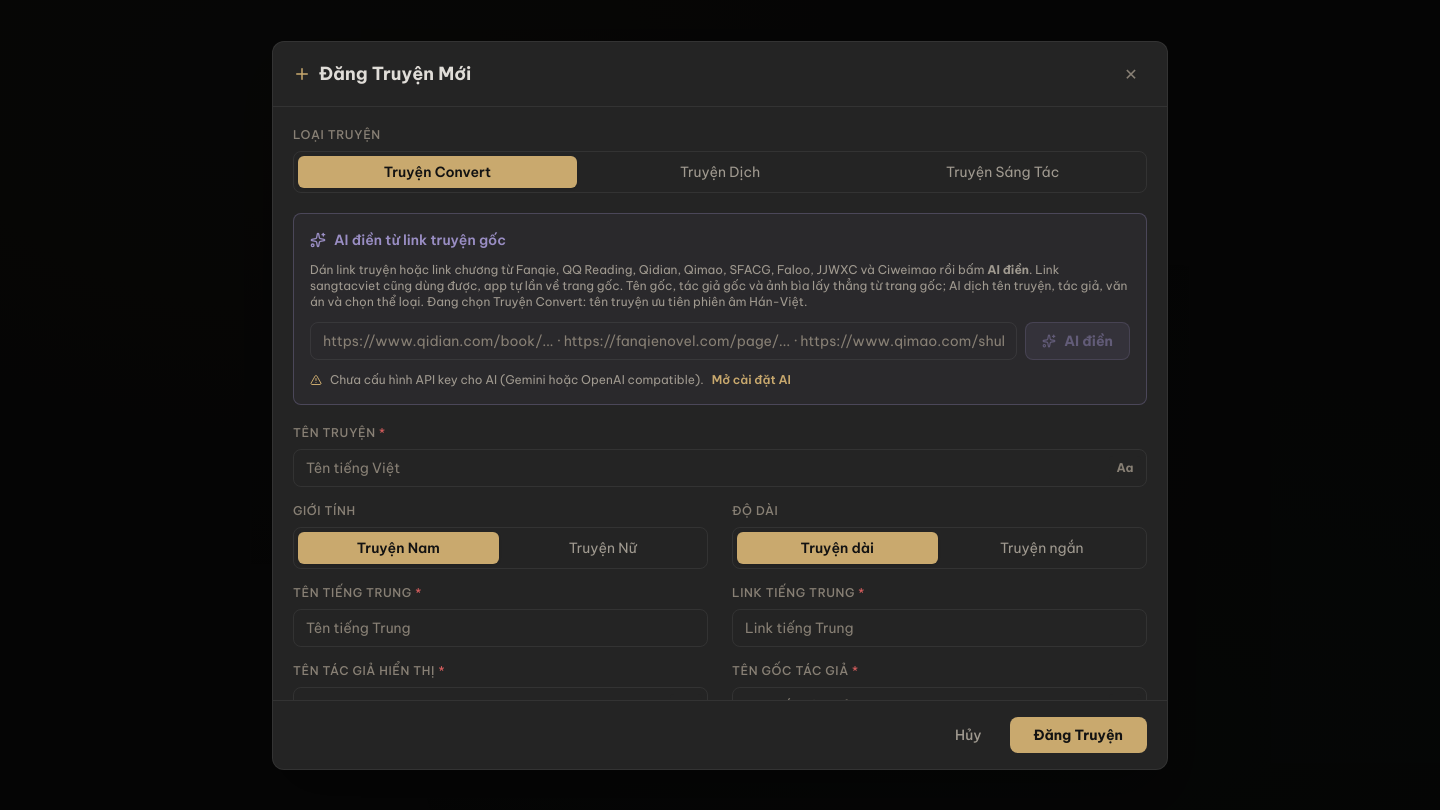
CreateBookModal › downloads the cover from the source without running the AI
Expected: the button "Tải ảnh bìa từ nguồn" is not shown
Replace the text in the field named "Link truyện gốc" with "https://www.qidian.com/book/1010868264/" at (664, 340), box [310, 322, 1017, 360]
(page scrolled)
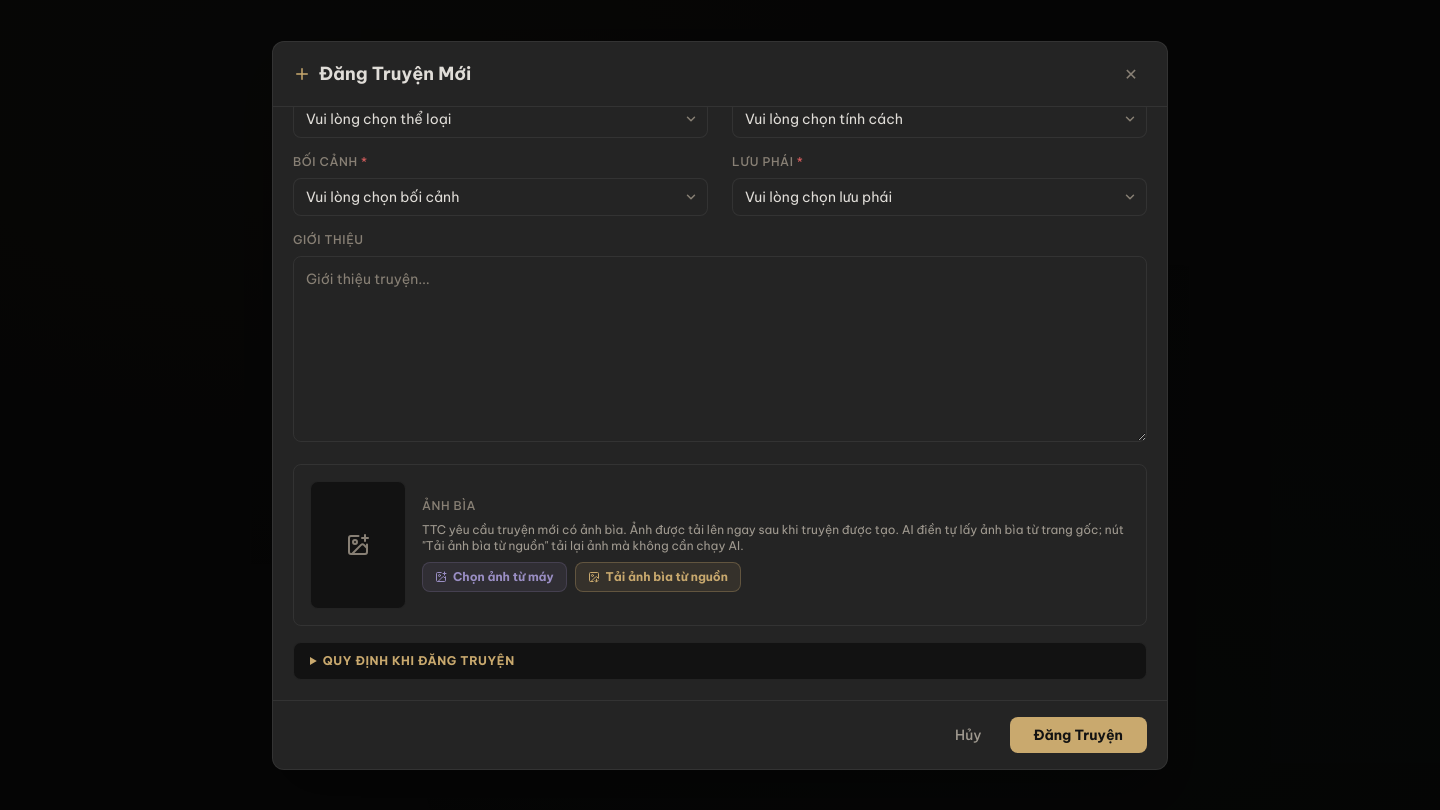
Click the button "Tải ảnh bìa từ nguồn" at (658, 576), box [575, 562, 741, 592]
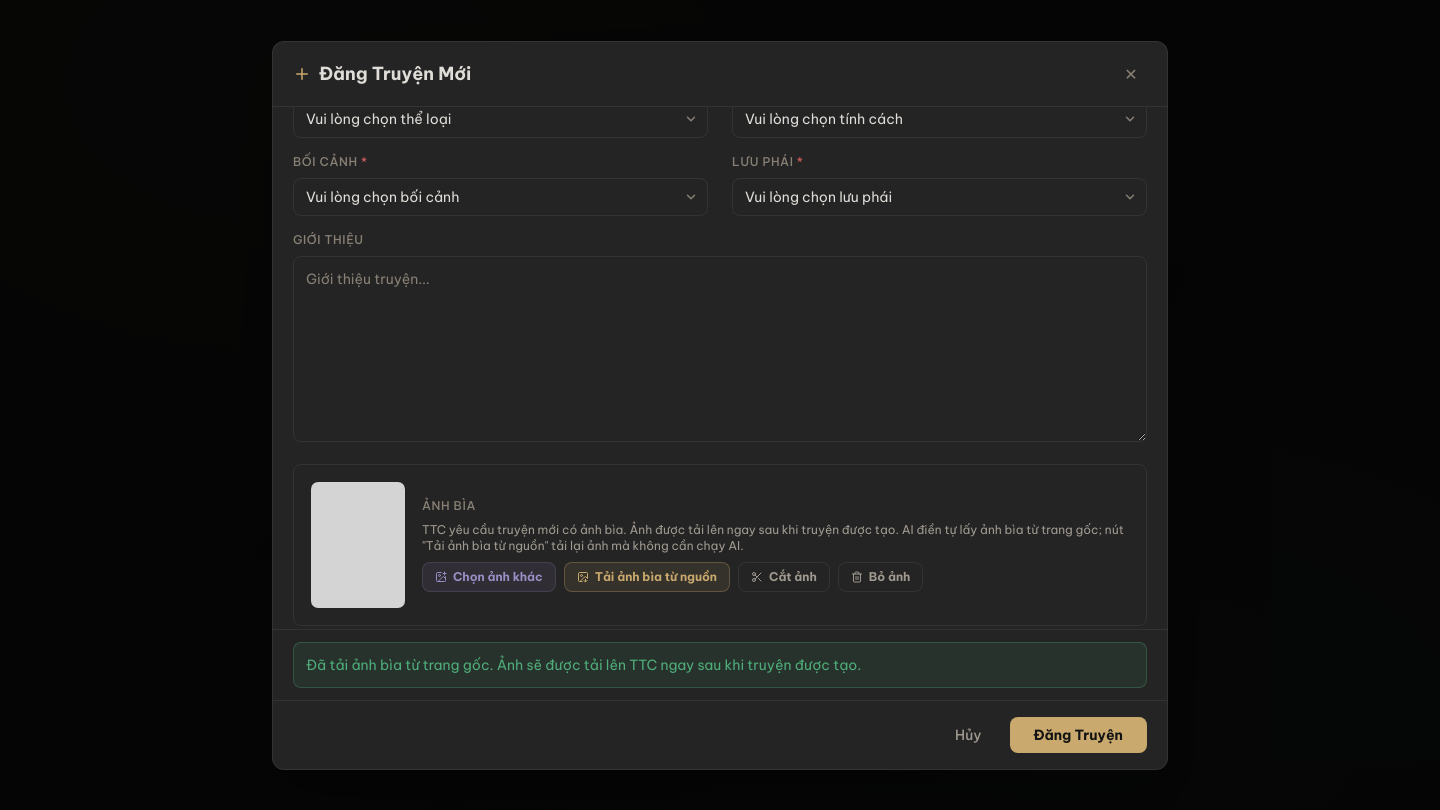
Now the text "Đã tải ảnh bìa từ trang gốc" is shown, box [306, 656, 861, 674]
